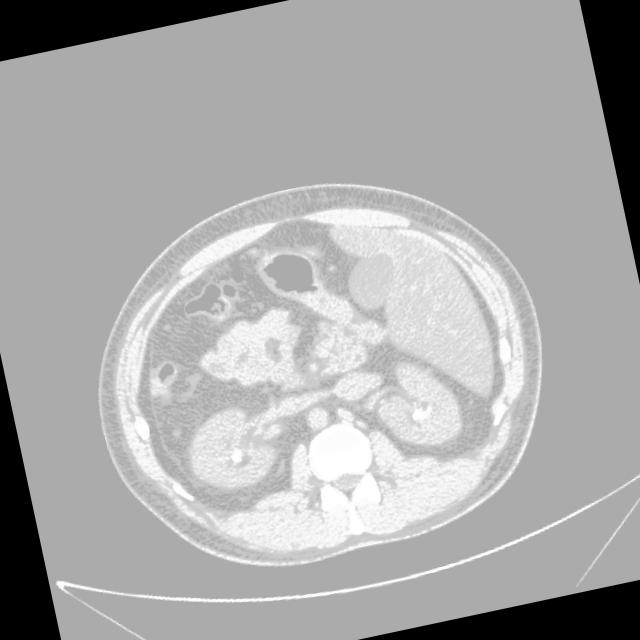STONE: (117, 184, 369, 406)
